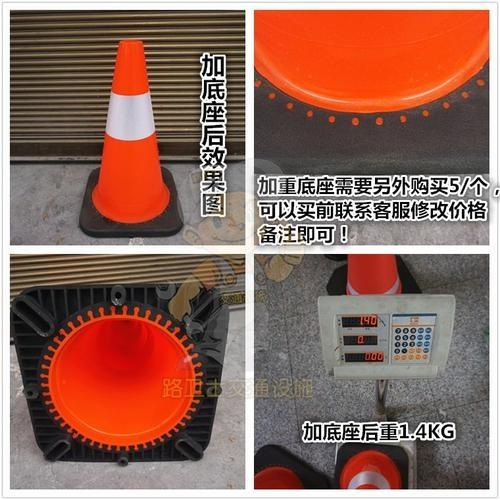cone_barrel: (83, 39, 176, 231)
